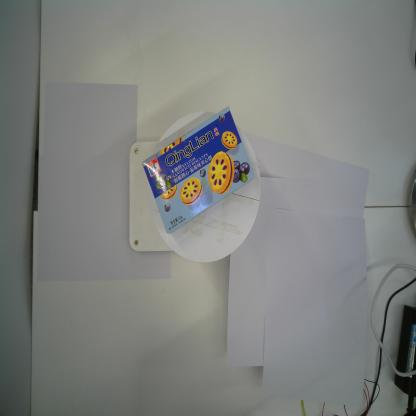Dessert: (141, 105, 256, 235)
